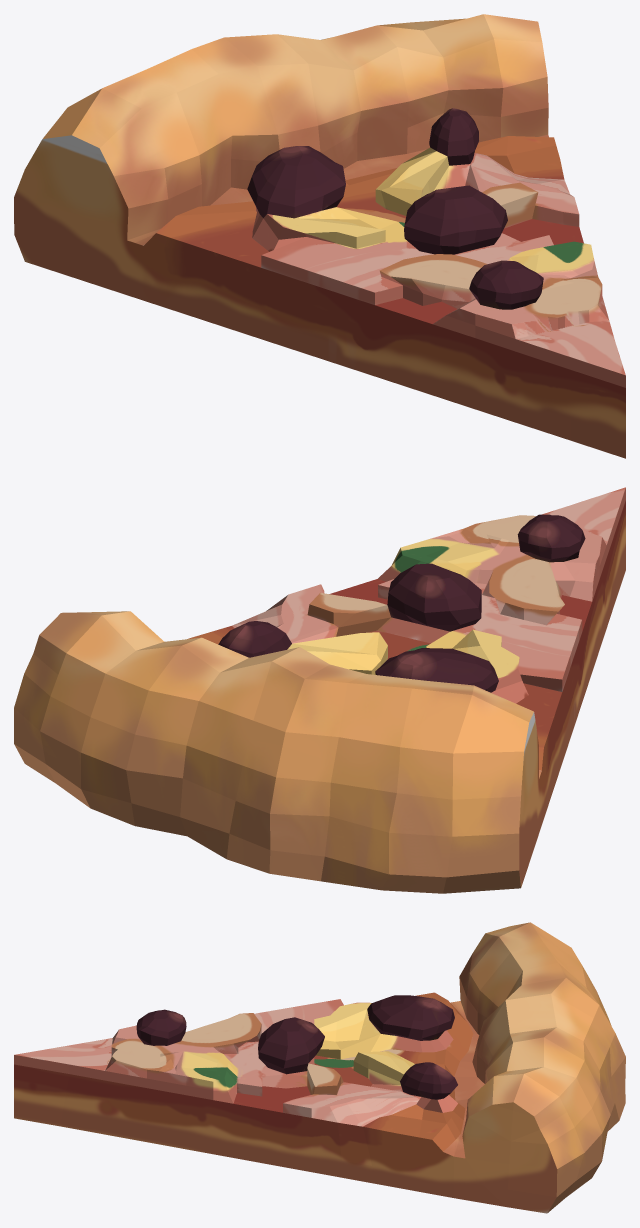
File: Pizza_P3 (1).fbx
3 renders of one model, top to bottom at view 1: azimuth 30°, elevation 25°; view 2: azimuth 150°, elevation 25°; view 3: azimuth 270°, elevation 25°, orthographic. The views are drawn at different scales.
Parts seen in each view (by area): view 1: Cylinder.003; view 2: Cylinder.003; view 3: Cylinder.003.
Part boxes in pixels (left/top/right/bottom): Cylinder.003: left=14, top=14, right=625, bottom=458; Cylinder.003: left=14, top=487, right=625, bottom=893; Cylinder.003: left=14, top=922, right=625, bottom=1213.
Bounding box in the file's own units: 118 × 37.47 × 161.
Materials: 1 (1 with a texture image).
